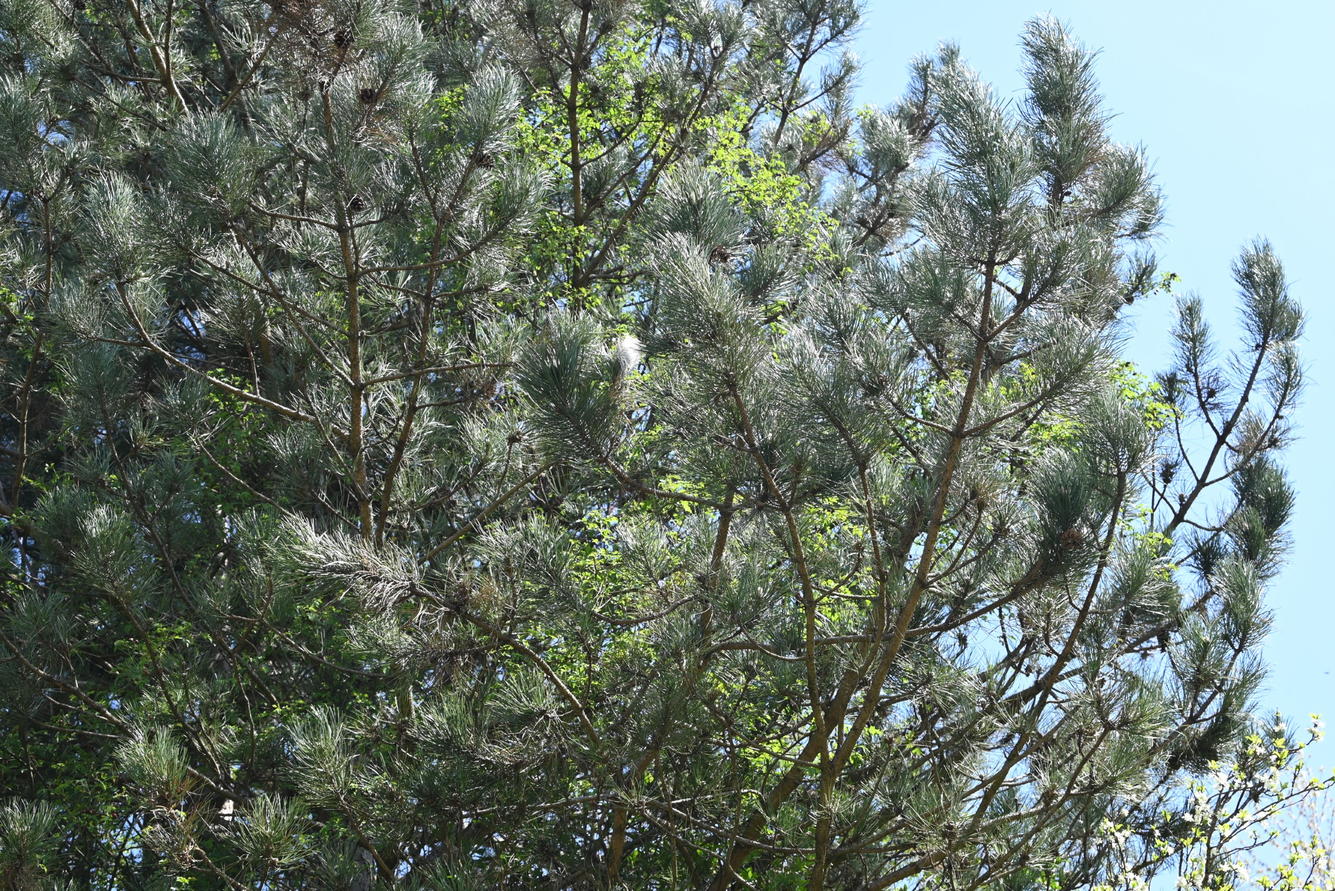thaumatopoea pityocampa jajno gnijezdo: (611, 334, 646, 376)
